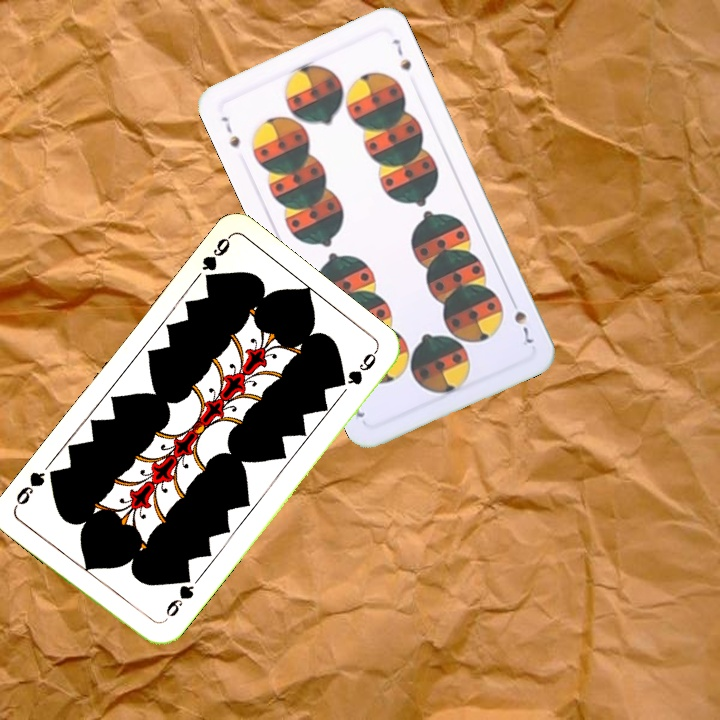G9: (197, 232, 233, 289), (161, 571, 197, 620)
S7: (506, 293, 536, 347), (217, 112, 243, 150)
